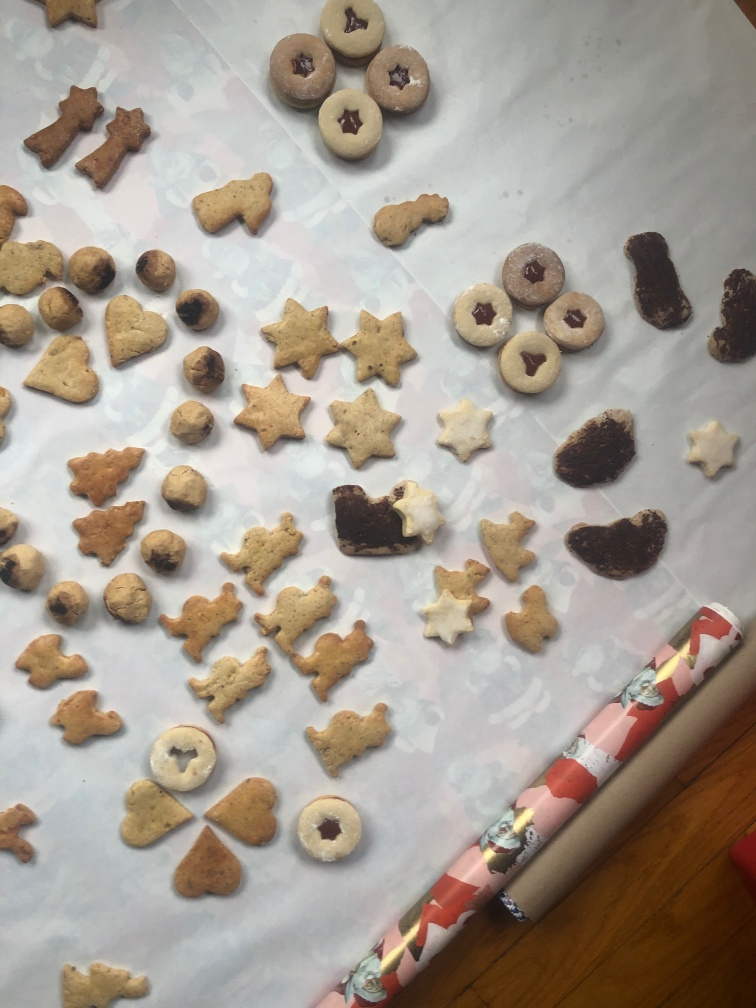angel: (188, 165, 282, 241)
christmas shortbread with jam: (316, 86, 386, 165), (495, 322, 564, 401), (366, 40, 437, 115), (292, 795, 365, 867), (268, 32, 338, 105), (147, 724, 220, 787), (539, 291, 605, 358), (449, 283, 516, 349), (320, 1, 390, 58), (501, 242, 565, 303)
christmas tree: (69, 497, 149, 567), (63, 442, 149, 507)
heart: (202, 771, 287, 855), (168, 822, 249, 905), (98, 290, 175, 369), (21, 328, 98, 406), (115, 780, 204, 845)
king mage: (54, 953, 158, 1006)
lamb: (47, 686, 130, 756), (473, 506, 543, 585), (15, 631, 93, 695), (502, 582, 570, 654), (430, 557, 493, 615)
santa claus: (285, 614, 377, 705), (253, 573, 345, 657), (218, 511, 308, 592), (303, 701, 399, 775), (188, 645, 277, 723), (160, 583, 244, 665), (1, 237, 70, 295)
shooting star: (75, 100, 158, 193), (22, 83, 107, 172)
snowball: (99, 568, 158, 634), (135, 526, 194, 583), (172, 284, 226, 341), (175, 344, 232, 394), (1, 540, 47, 601), (161, 464, 211, 517), (45, 577, 93, 631), (166, 401, 219, 447), (66, 245, 114, 295), (39, 286, 85, 336), (1, 299, 38, 360), (135, 245, 181, 294)
snowman: (369, 185, 455, 258)
squirrel: (3, 799, 39, 874)
star: (258, 294, 348, 381), (322, 388, 409, 473), (234, 370, 311, 461), (341, 305, 419, 393), (429, 393, 499, 461), (682, 416, 741, 482), (413, 587, 475, 649), (390, 476, 447, 539), (31, 1, 115, 33)
weird #1: (618, 223, 701, 334), (550, 404, 639, 495), (563, 506, 668, 582), (330, 477, 419, 562), (702, 264, 756, 368)
